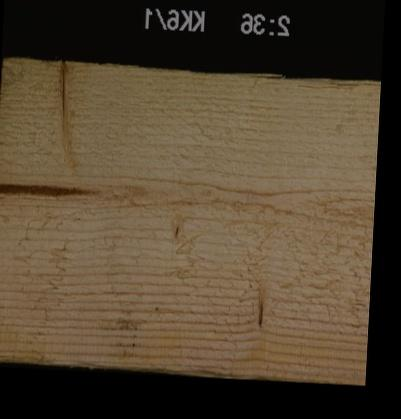small_knot: (164, 219, 189, 246)
split: (291, 77, 379, 92)
